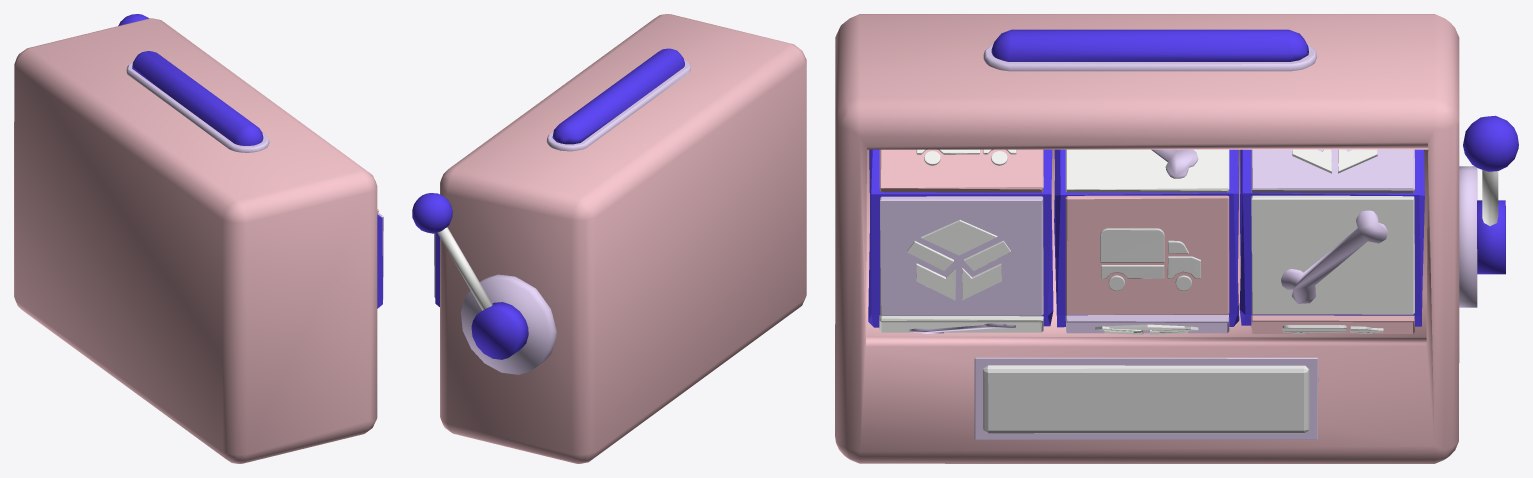
Rendered from slot_machine_8.glb.
3 renders of one model, left to right at view 1: azimuth 30°, elevation 25°; view 2: azimuth 150°, elevation 25°; view 3: azimuth 270°, elevation 25°, orthographic. The views are drawn at different scales.
Parts seen in each view (by area): view 1: boite, gyro, gyro base, roue L; view 2: boite, manivelle base_1, gyro, manivelle base_2, gyro base, manivelle boule, manivelle poignée; view 3: boite, résultat, roue L_blanc, roue M_rose.001, roue L_lilas, gyro, résultat base, roue L_rose.001, roue M_blanc.001, roue R_lilas, roue R, roue L (+17 smaller).
Boxes of the visible parts, bbox=[...] form: boite: bbox=[14, 18, 377, 463]; gyro: bbox=[132, 51, 263, 145]; gyro base: bbox=[126, 62, 269, 152]; roue L: bbox=[377, 214, 382, 308]; boite: bbox=[440, 14, 806, 463]; manivelle base_1: bbox=[461, 274, 556, 374]; gyro: bbox=[552, 48, 684, 144]; manivelle base_2: bbox=[471, 302, 528, 359]; gyro base: bbox=[546, 60, 690, 151]; manivelle boule: bbox=[412, 193, 452, 233]; manivelle poignée: bbox=[437, 227, 492, 310]; boite: bbox=[835, 14, 1459, 463]; résultat: bbox=[983, 365, 1309, 433]; roue L_blanc: bbox=[1251, 195, 1414, 314]; roue M_rose.001: bbox=[1065, 195, 1229, 314]; roue L_lilas: bbox=[880, 196, 1043, 316]; gyro: bbox=[991, 29, 1308, 61]; résultat base: bbox=[974, 357, 1318, 439]; roue L_rose.001: bbox=[879, 149, 1043, 192]; roue M_blanc.001: bbox=[1065, 149, 1229, 192]; roue R_lilas: bbox=[1251, 149, 1414, 193]; roue R: bbox=[1239, 149, 1424, 326]; roue L: bbox=[868, 149, 1053, 327].
Size of what is drawn, in the model's own units: 2.01 by 3.18 by 5.02.
